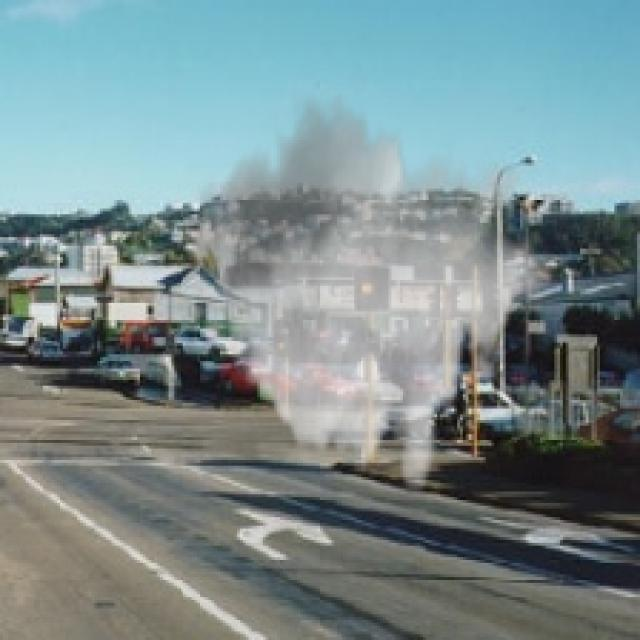smoke: (186, 89, 554, 500)
